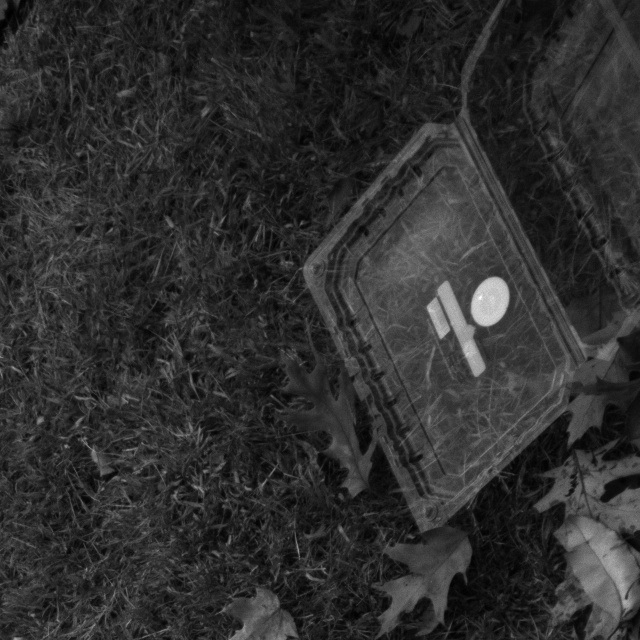container: (294, 0, 640, 546)
